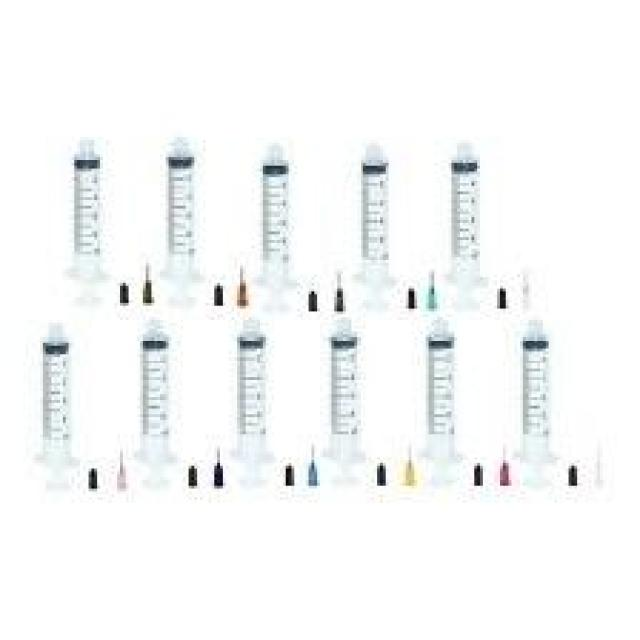syringe: (296, 300, 395, 489), (32, 320, 120, 509), (128, 306, 205, 506), (218, 306, 298, 496), (57, 138, 137, 326), (420, 126, 494, 321), (336, 144, 416, 321), (401, 313, 476, 494), (149, 126, 220, 312), (237, 143, 304, 324), (502, 322, 574, 488)
